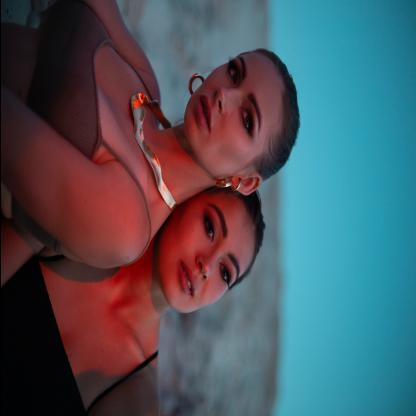Eye: (201, 213, 216, 245), (238, 106, 252, 136), (217, 262, 230, 287), (225, 62, 238, 86)
Mouth: (177, 260, 195, 298), (195, 95, 212, 134)
Nose: (195, 246, 221, 282), (212, 87, 241, 115)
